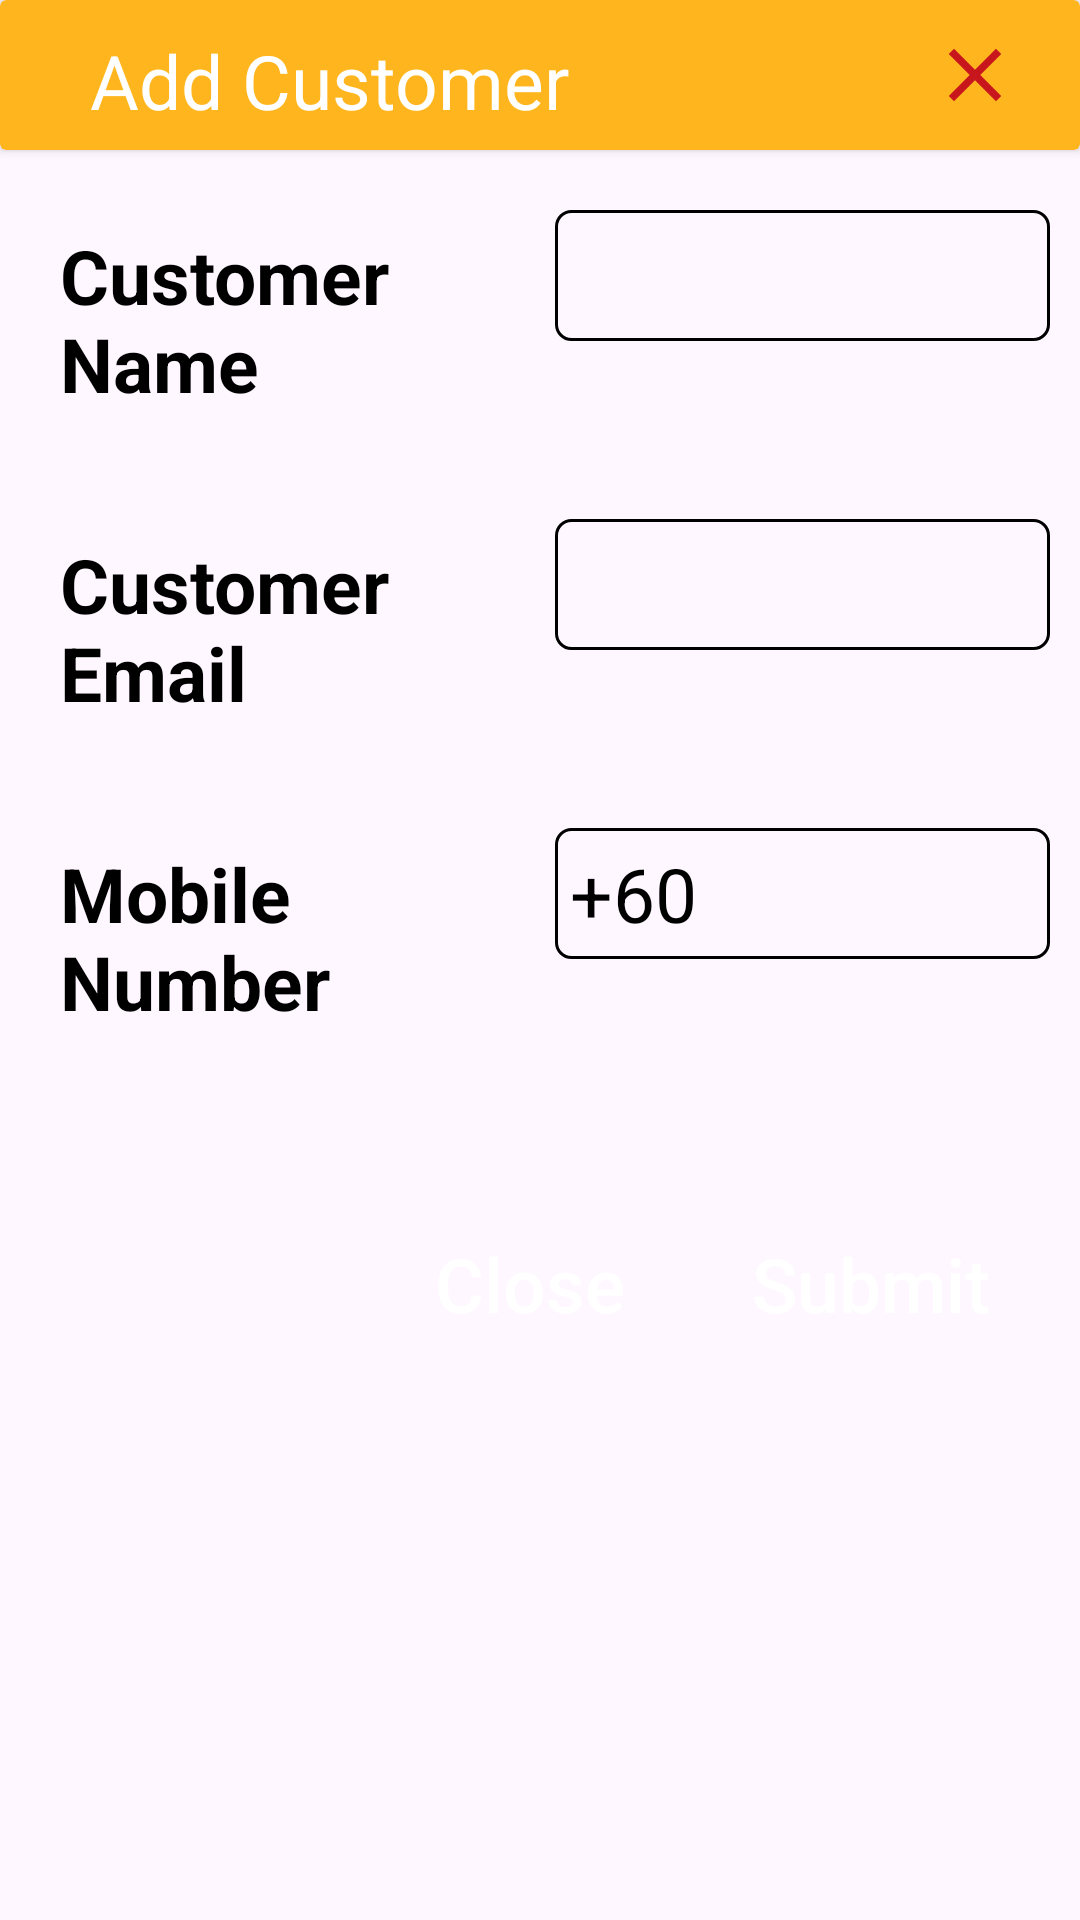

Icons on this 1080×1920 Android screen, each with its box as (x1, y1, x2, y2):
close: (949, 49, 1001, 101)
